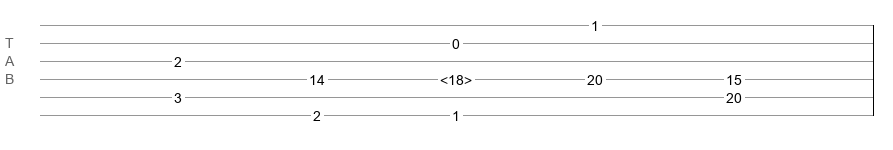0: (452, 36, 460, 46)
1: (452, 108, 460, 118), (591, 18, 599, 28)
14: (309, 72, 325, 82)
15: (726, 72, 742, 82)
2: (174, 54, 182, 64), (313, 108, 321, 118)
20: (587, 72, 603, 82), (726, 90, 742, 100)
3: (174, 90, 182, 100)
harmonic: (440, 72, 472, 82)
